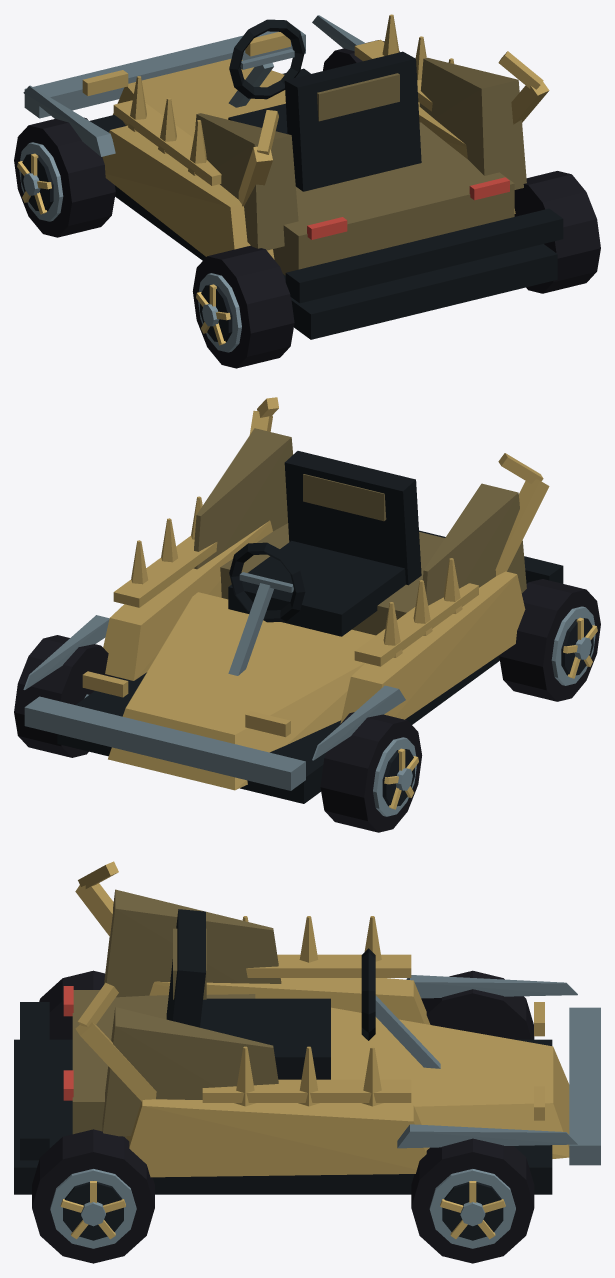
Rendered from kart.glb.
The picture shows the model from 3 angles, top to bottom: view 1: azimuth 30°, elevation 25°; view 2: azimuth 150°, elevation 25°; view 3: azimuth 270°, elevation 25°; orthographic projection. The views are drawn at different scales.
Parts seen in each view (by area): view 1: chassis, wheel-rear-left, wheel-front-left, wheel-rear-right, wheel-front-right; view 2: chassis, wheel-front-left, wheel-rear-left, wheel-front-right; view 3: chassis, wheel-rear-right, wheel-front-right, wheel-front-left, wheel-rear-left.
Boxes of the visible parts, bbox=[...] form: chassis: bbox=[23, 14, 563, 339]; wheel-rear-left: bbox=[192, 245, 294, 368]; wheel-front-left: bbox=[14, 117, 115, 237]; wheel-rear-right: bbox=[514, 171, 600, 293]; wheel-front-right: bbox=[323, 40, 399, 70]; chassis: bbox=[23, 397, 563, 803]; wheel-front-left: bbox=[320, 712, 422, 832]; wheel-rear-left: bbox=[499, 579, 600, 701]; wheel-front-right: bbox=[14, 635, 114, 757]; chassis: bbox=[14, 861, 600, 1194]; wheel-rear-right: bbox=[32, 1129, 154, 1263]; wheel-front-right: bbox=[411, 1138, 534, 1263]; wheel-front-left: bbox=[421, 970, 534, 1039]; wheel-rear-left: bbox=[39, 970, 104, 1039].
Size of the model in its own units: 2.33 by 1.38 by 2.96.
